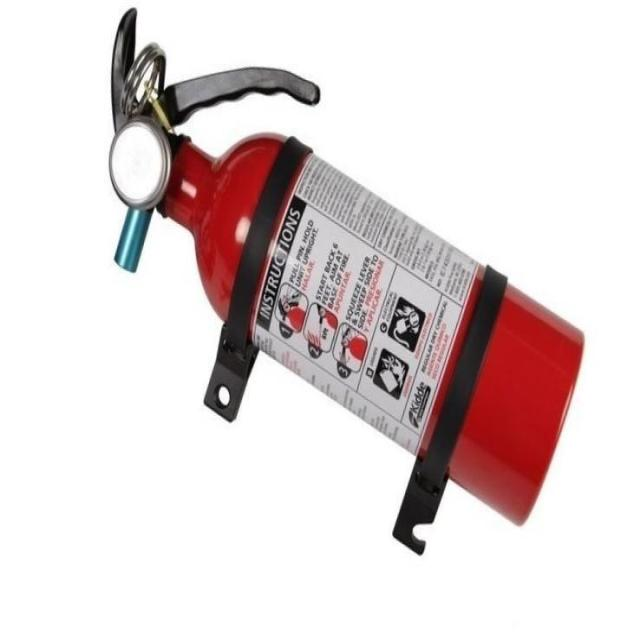fire_extinguisher: (105, 1, 590, 532)
